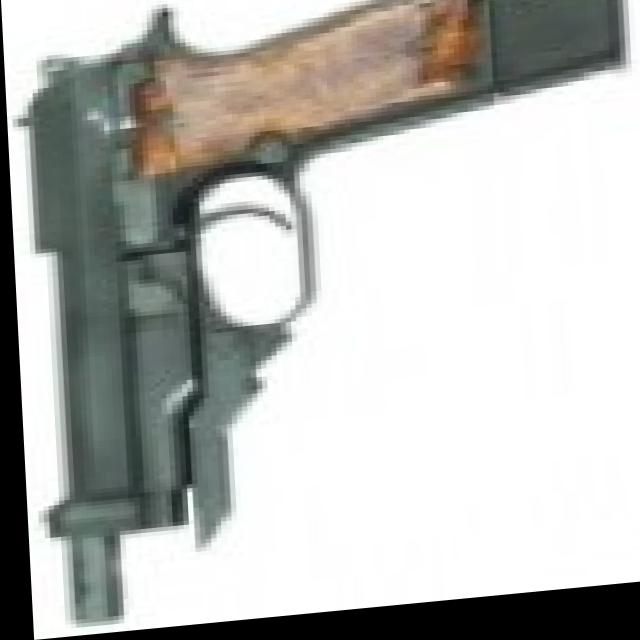handgun: (6, 0, 640, 636)
